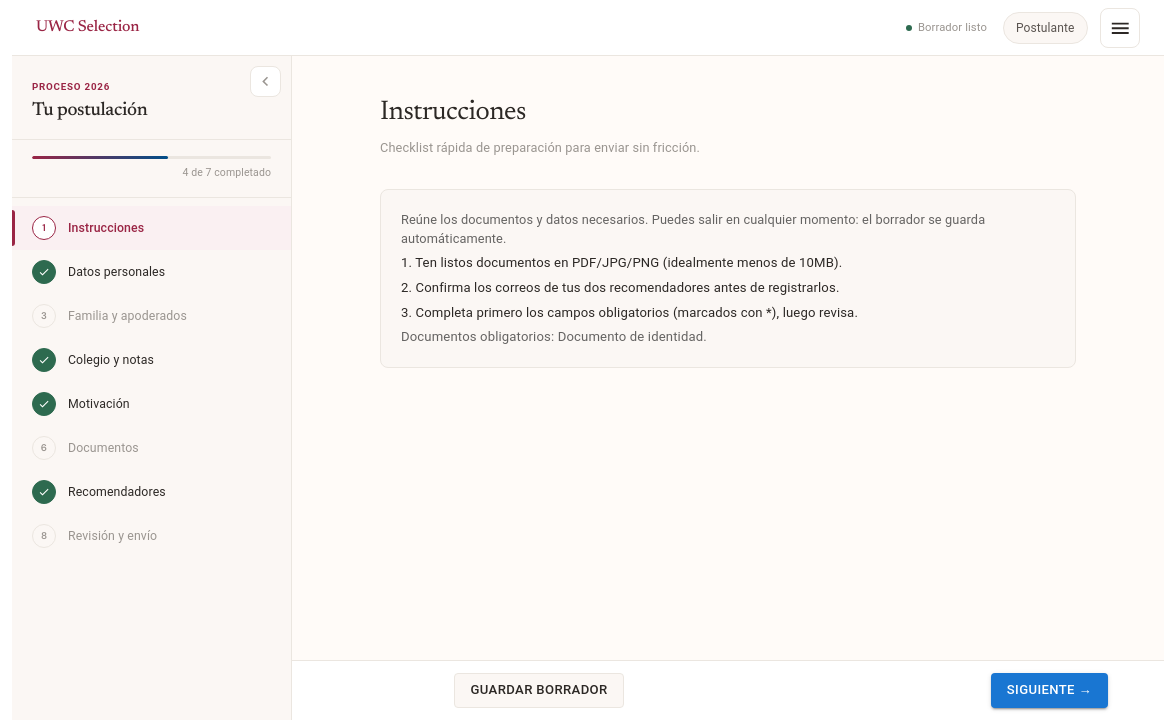
Test case: ApplicantApplicationForm › shows previously registered recommenders from API
Click the button "Recomendadores" at (152, 492), box x1=12 y1=470 x2=291 y2=514
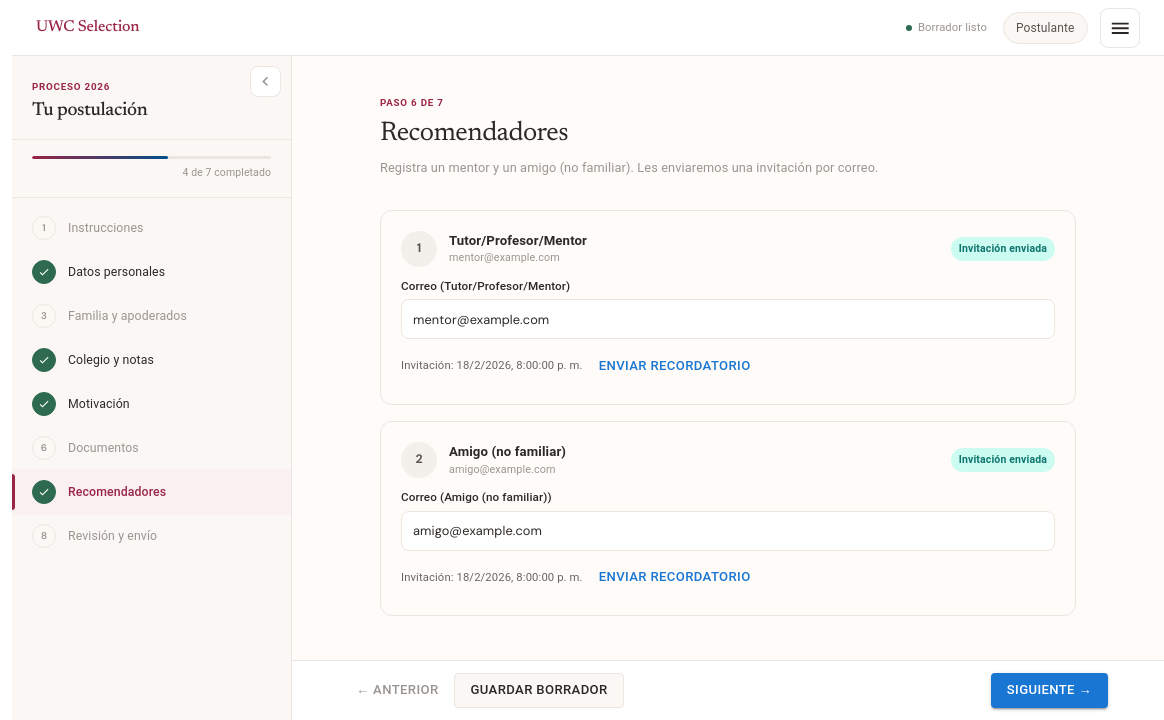
Now the field showing "mentor@example.com" is shown, box x1=401 y1=301 x2=1055 y2=337
Now the field showing "amigo@example.com" is shown, box x1=401 y1=512 x2=1055 y2=549
